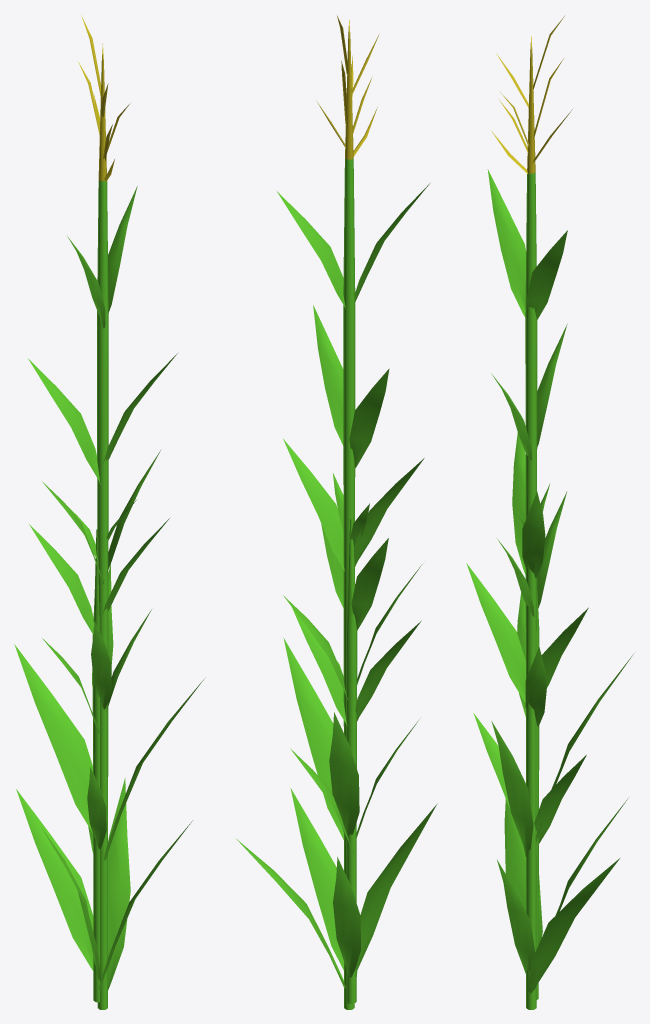
Rendered from swamp_sedge_02.fbx.
The picture shows the model from 3 angles, left to right: view 1: azimuth 30°, elevation 25°; view 2: azimuth 150°, elevation 25°; view 3: azimuth 270°, elevation 25°; orthographic projection. The views are drawn at different scales.
Parts seen in each view (by area): view 1: Phragmites, Phragmites.002; view 2: Phragmites, Phragmites.002; view 3: Phragmites, Phragmites.002.
Part boxes in pixels (<box>): Phragmites: <box>14,15,205,1009</box>; Phragmites.002: <box>16,500,192,1002</box>; Phragmites: <box>236,15,437,1009</box>; Phragmites.002: <box>290,473,421,1003</box>; Phragmites: <box>466,16,633,1009</box>; Phragmites.002: <box>473,483,627,999</box>.
Size of the model in its own units: 0.3324 by 1.97 by 0.3052.
